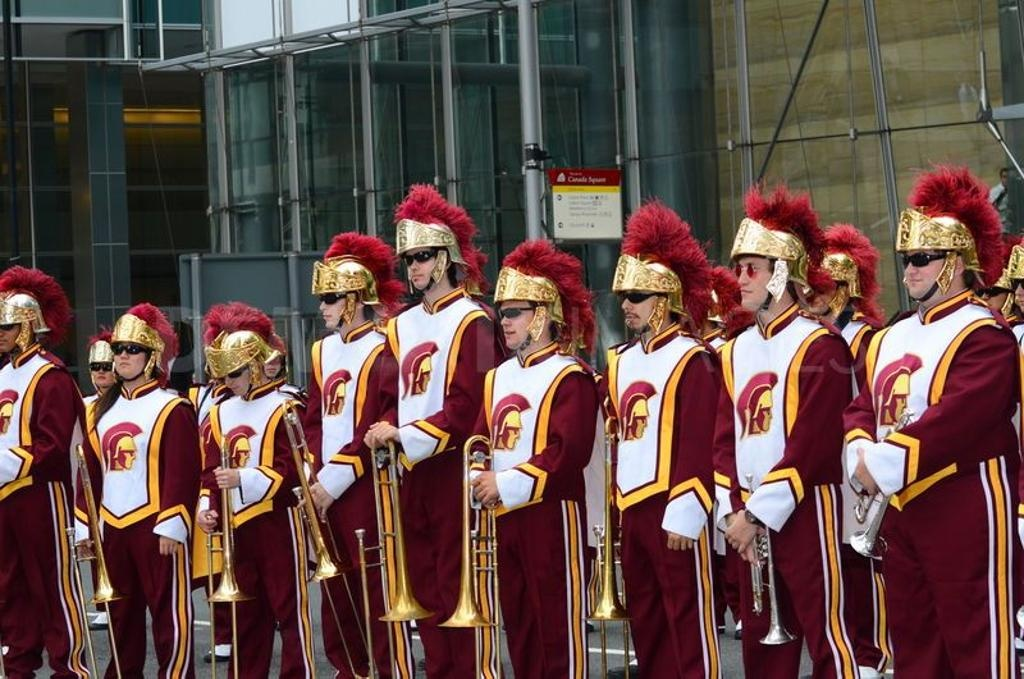human_face: (902, 245, 948, 298), (735, 254, 771, 310), (499, 300, 537, 350), (619, 288, 659, 328), (403, 248, 437, 290), (112, 340, 146, 378), (976, 277, 1006, 313), (318, 290, 348, 326), (220, 364, 250, 394), (804, 279, 830, 311), (88, 361, 114, 387), (684, 296, 706, 326), (0, 323, 21, 353), (1012, 278, 1024, 314), (263, 354, 281, 378), (1002, 172, 1010, 185)
